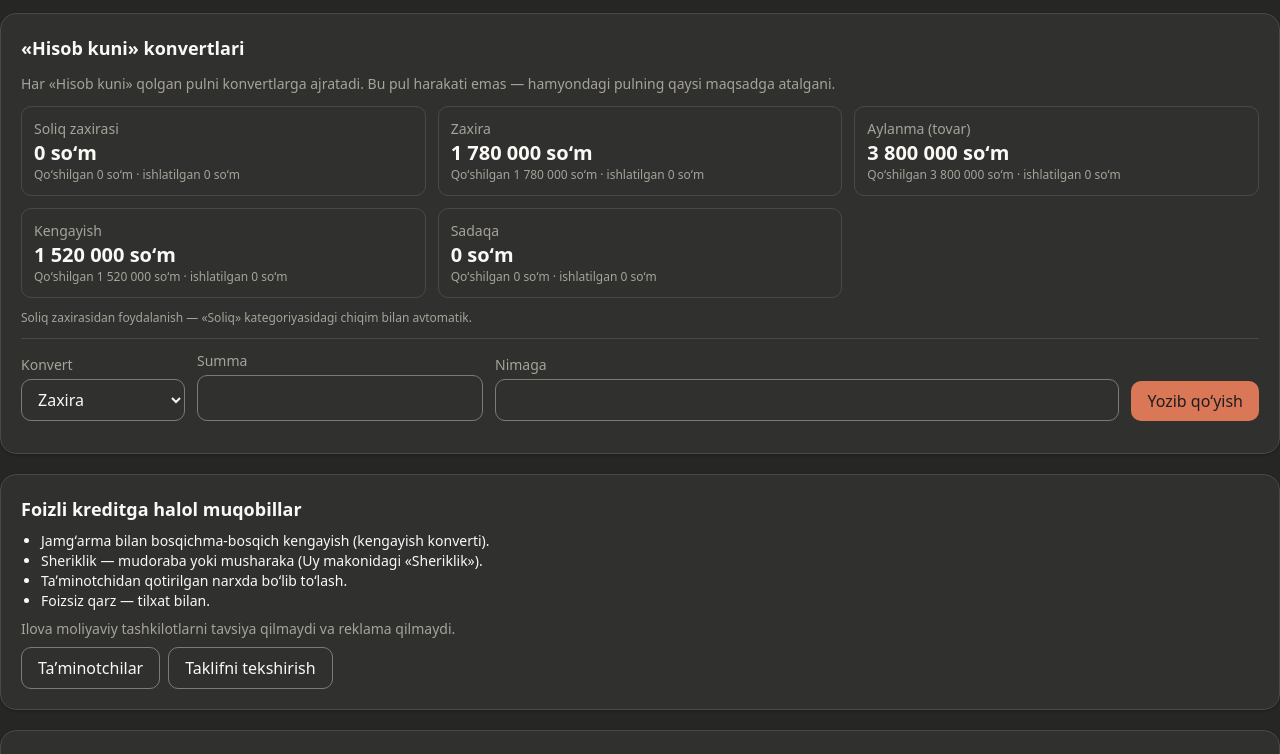
it: Kasb-kor: kengayish darvozasi (K7) › konvertdan foydalanish: yadro qoldiqni tekshiradi
(page scrolled)
Select "Aylanma (tovar)" in the dropdown labelled "Konvert" at (103, 400), box [21,379,185,421]
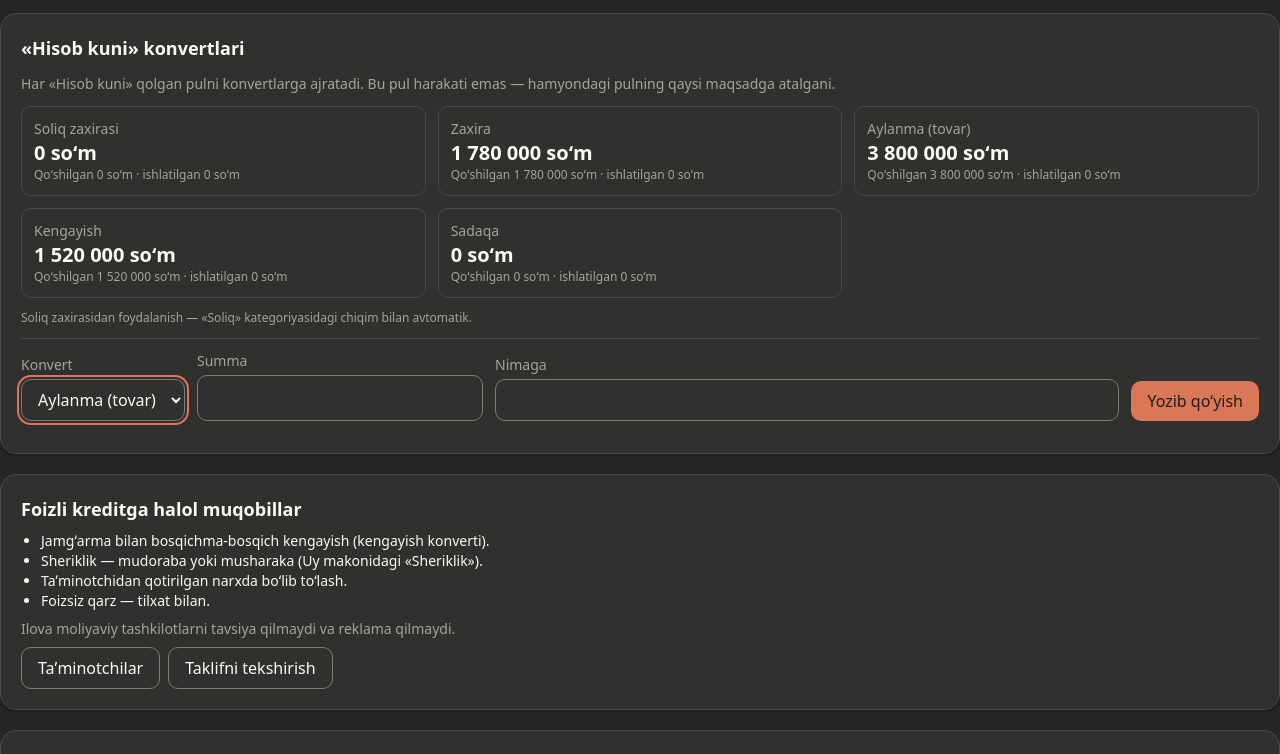
Type "5 000 000" into the field labelled "Summa".
click(340, 398); type("5 000 000")  # box [197,375,483,421]
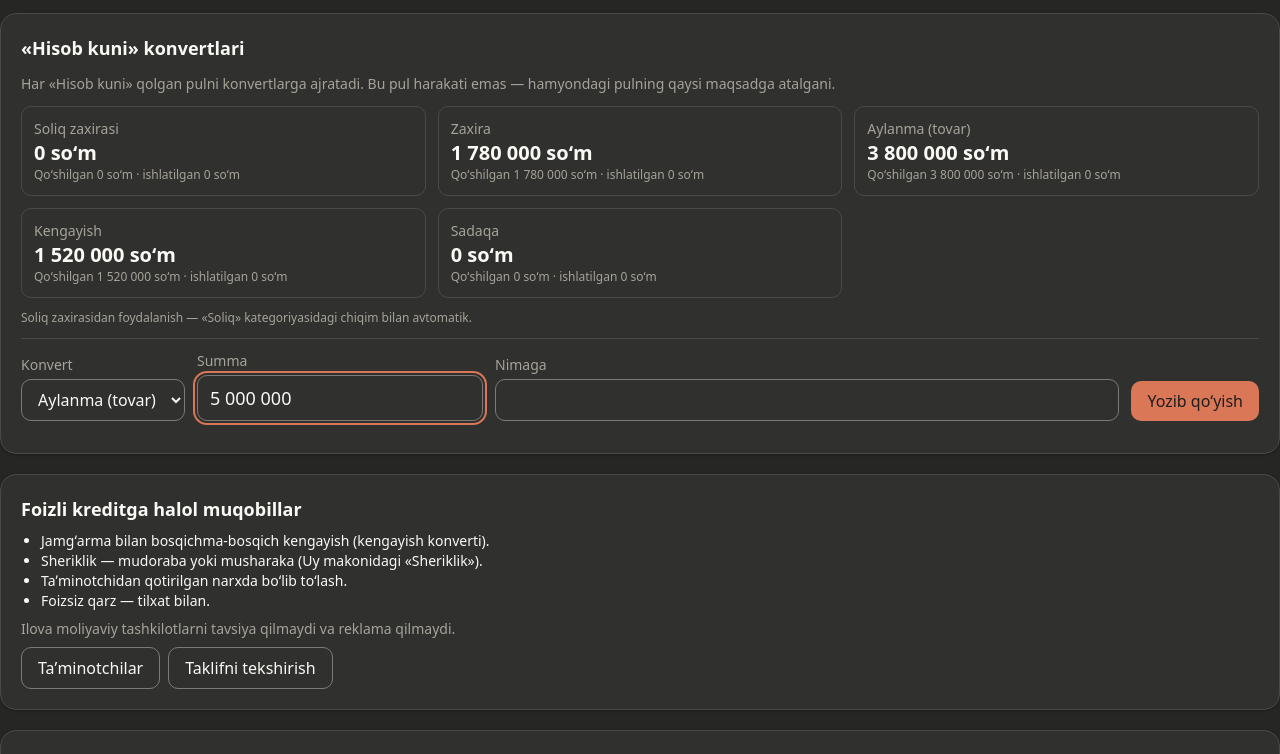
Type "Mato" into the field labelled "Nimaga".
click(807, 400); type("Mato")  # box [495,379,1119,421]
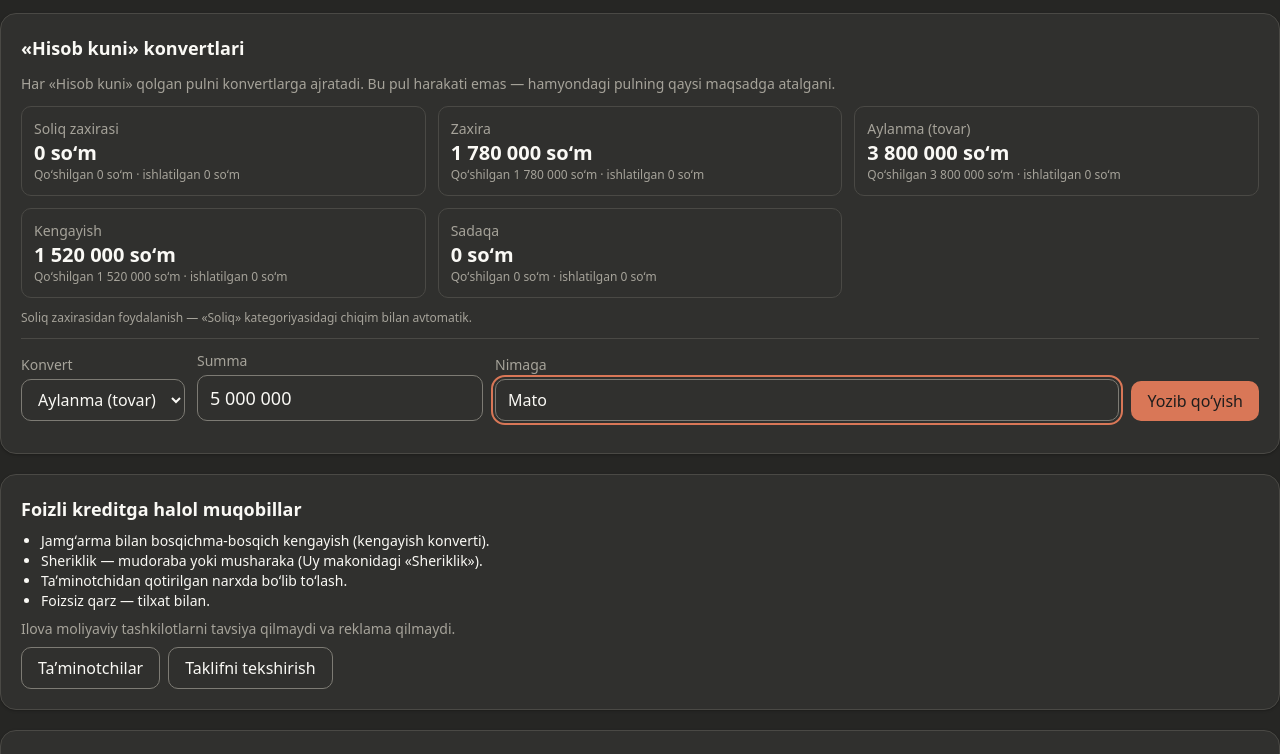
Click the button "Yozib qoʻyish".
click(1195, 401)  # box [1131,381,1259,421]
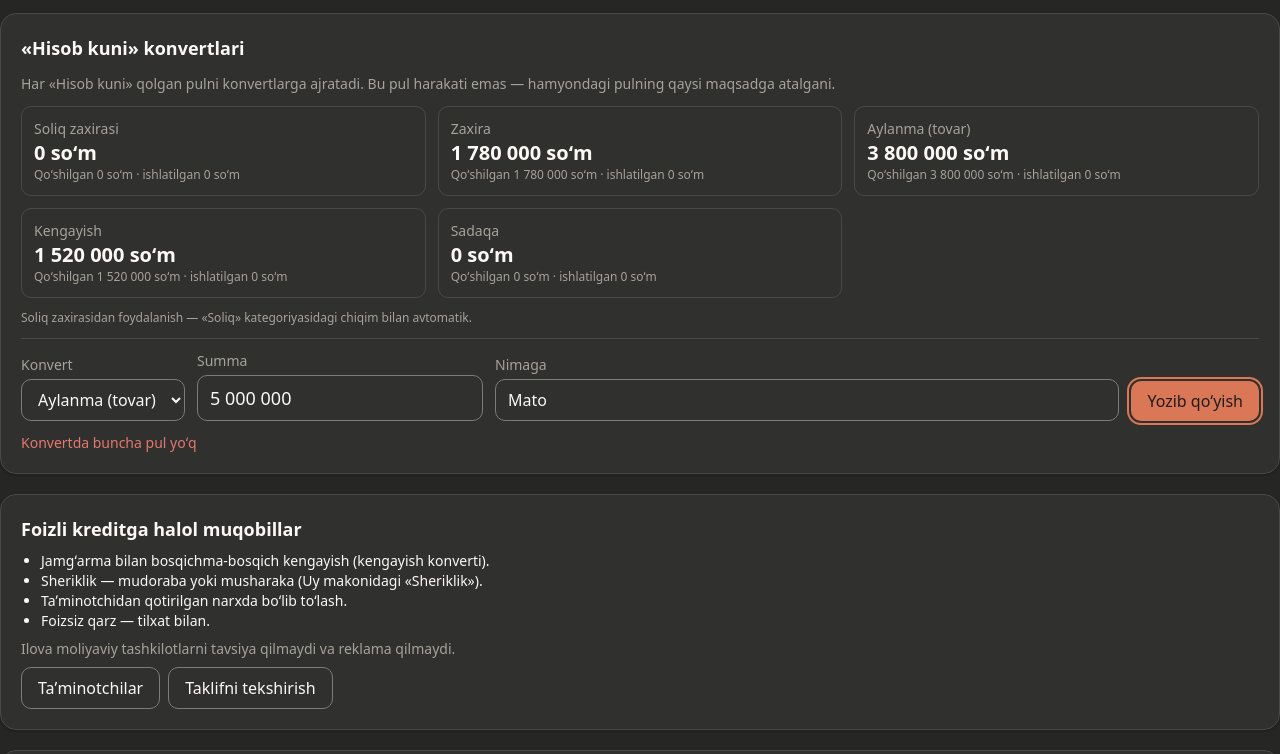
Result: the message reads "Konvertda buncha pul yoʻq" at [21,433,197,452]
